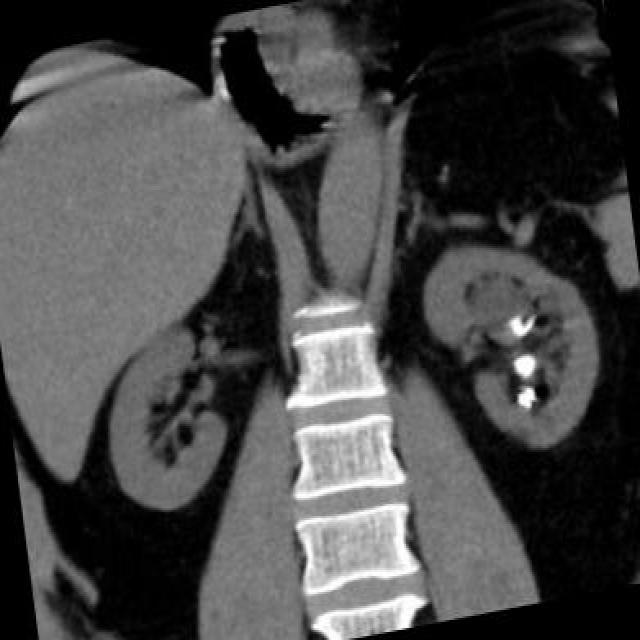Tas_Var: (508, 350, 544, 382), (509, 309, 537, 341), (516, 384, 540, 408), (522, 399, 532, 409)
